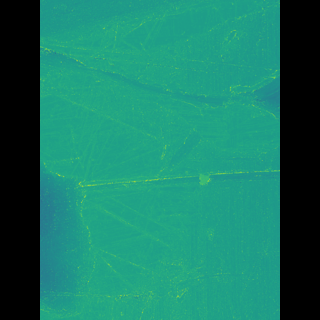Loch: (69, 37, 197, 309), (132, 0, 250, 160)
